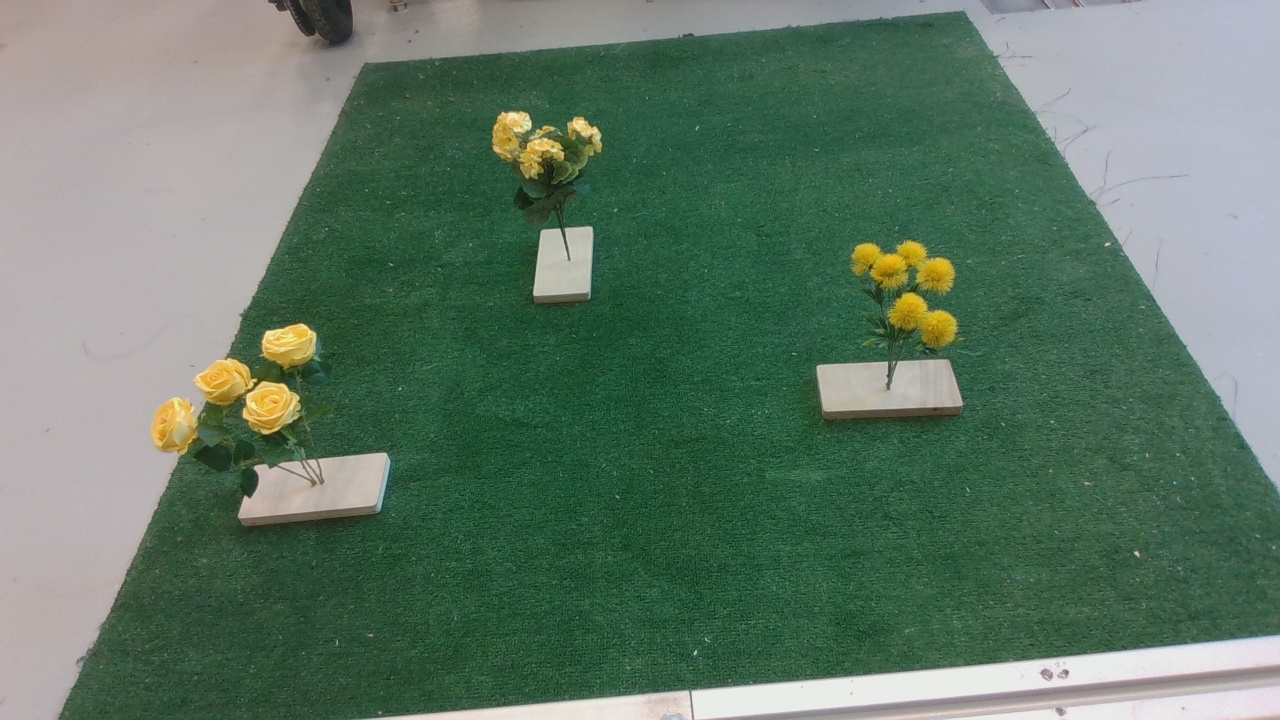dandelion: (838, 236, 971, 367)
geranium: (485, 107, 613, 245)
rose: (146, 316, 332, 505)
